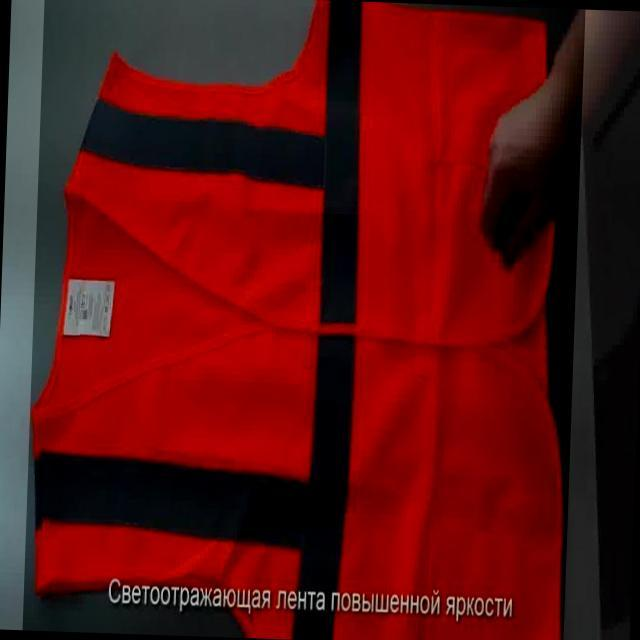Safety Vest: (22, 0, 585, 640)
